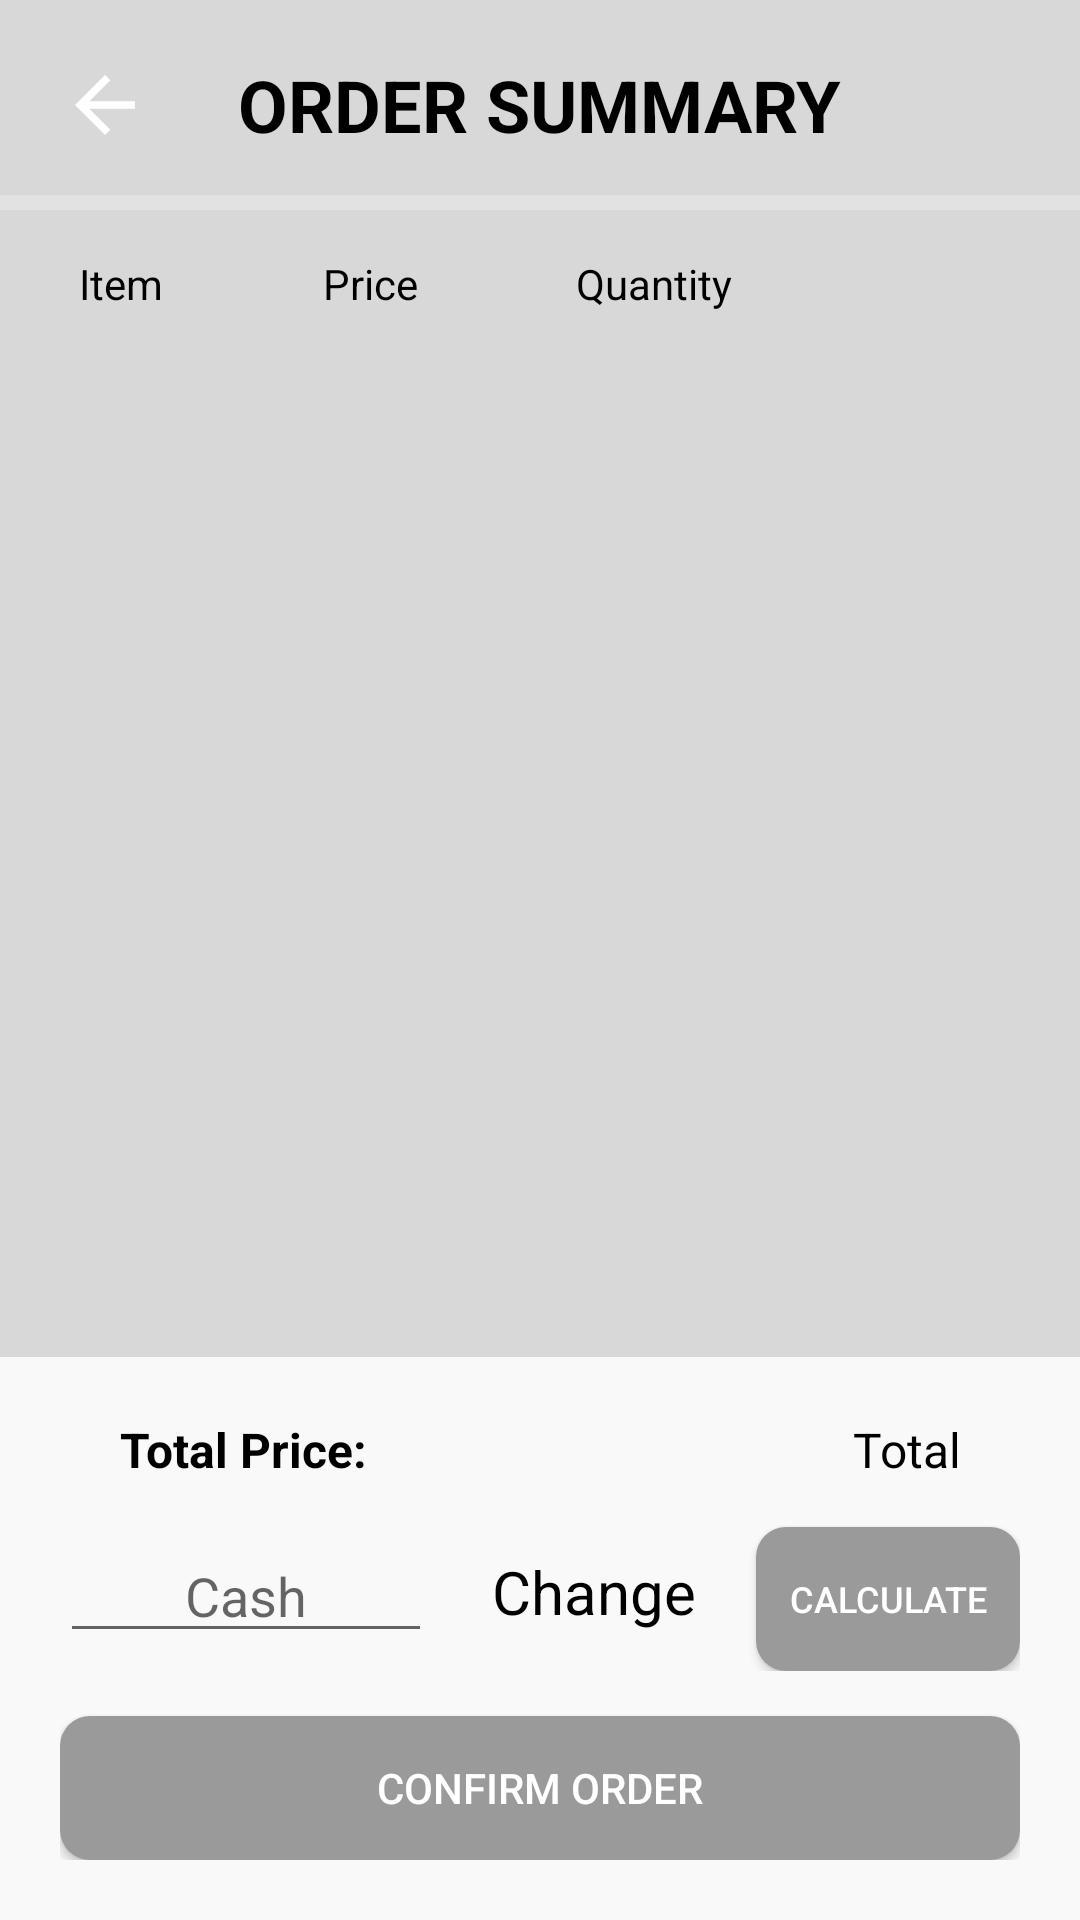

Named icons in this screenshot (1080 x 1920) and their centers, (x=x, y=y):
back: (x=105, y=105)
